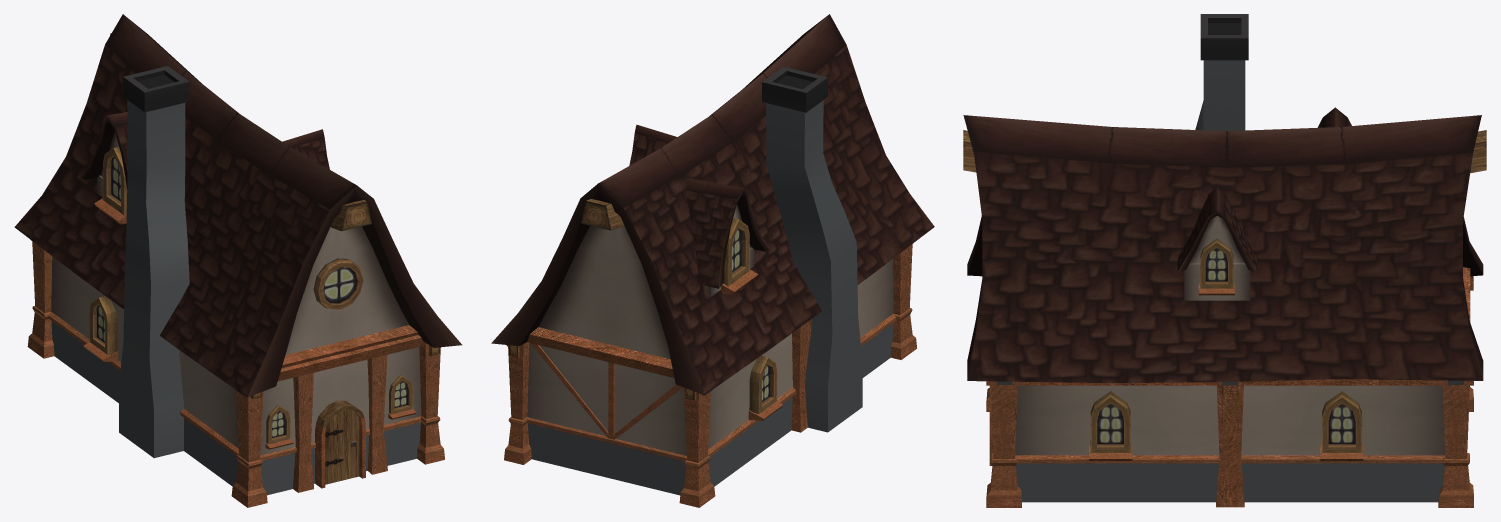
Rendered from fanasty_mod_village_building16.fbx.
3 renders of one model, left to right at view 1: azimuth 30°, elevation 25°; view 2: azimuth 150°, elevation 25°; view 3: azimuth 270°, elevation 25°, orthographic. The views are drawn at different scales.
Visible parts, largest first — view 1: village_building_016; view 2: village_building_016; view 3: village_building_016.
Part boxes in pixels (x1,y1,x2,y2): village_building_016: (14,14,462,507); village_building_016: (491,14,934,507); village_building_016: (963,14,1486,507).
Bounding box in the file's own units: 6.93 × 10.16 × 12.57.
